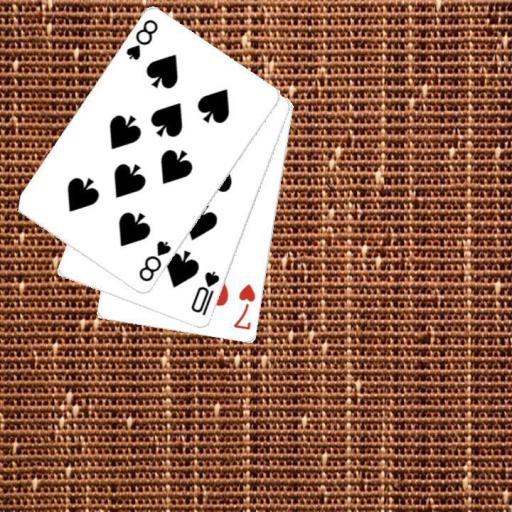10S: (188, 268, 221, 318)
7H: (231, 281, 258, 332)
8S: (135, 238, 173, 284), (122, 17, 160, 63)
